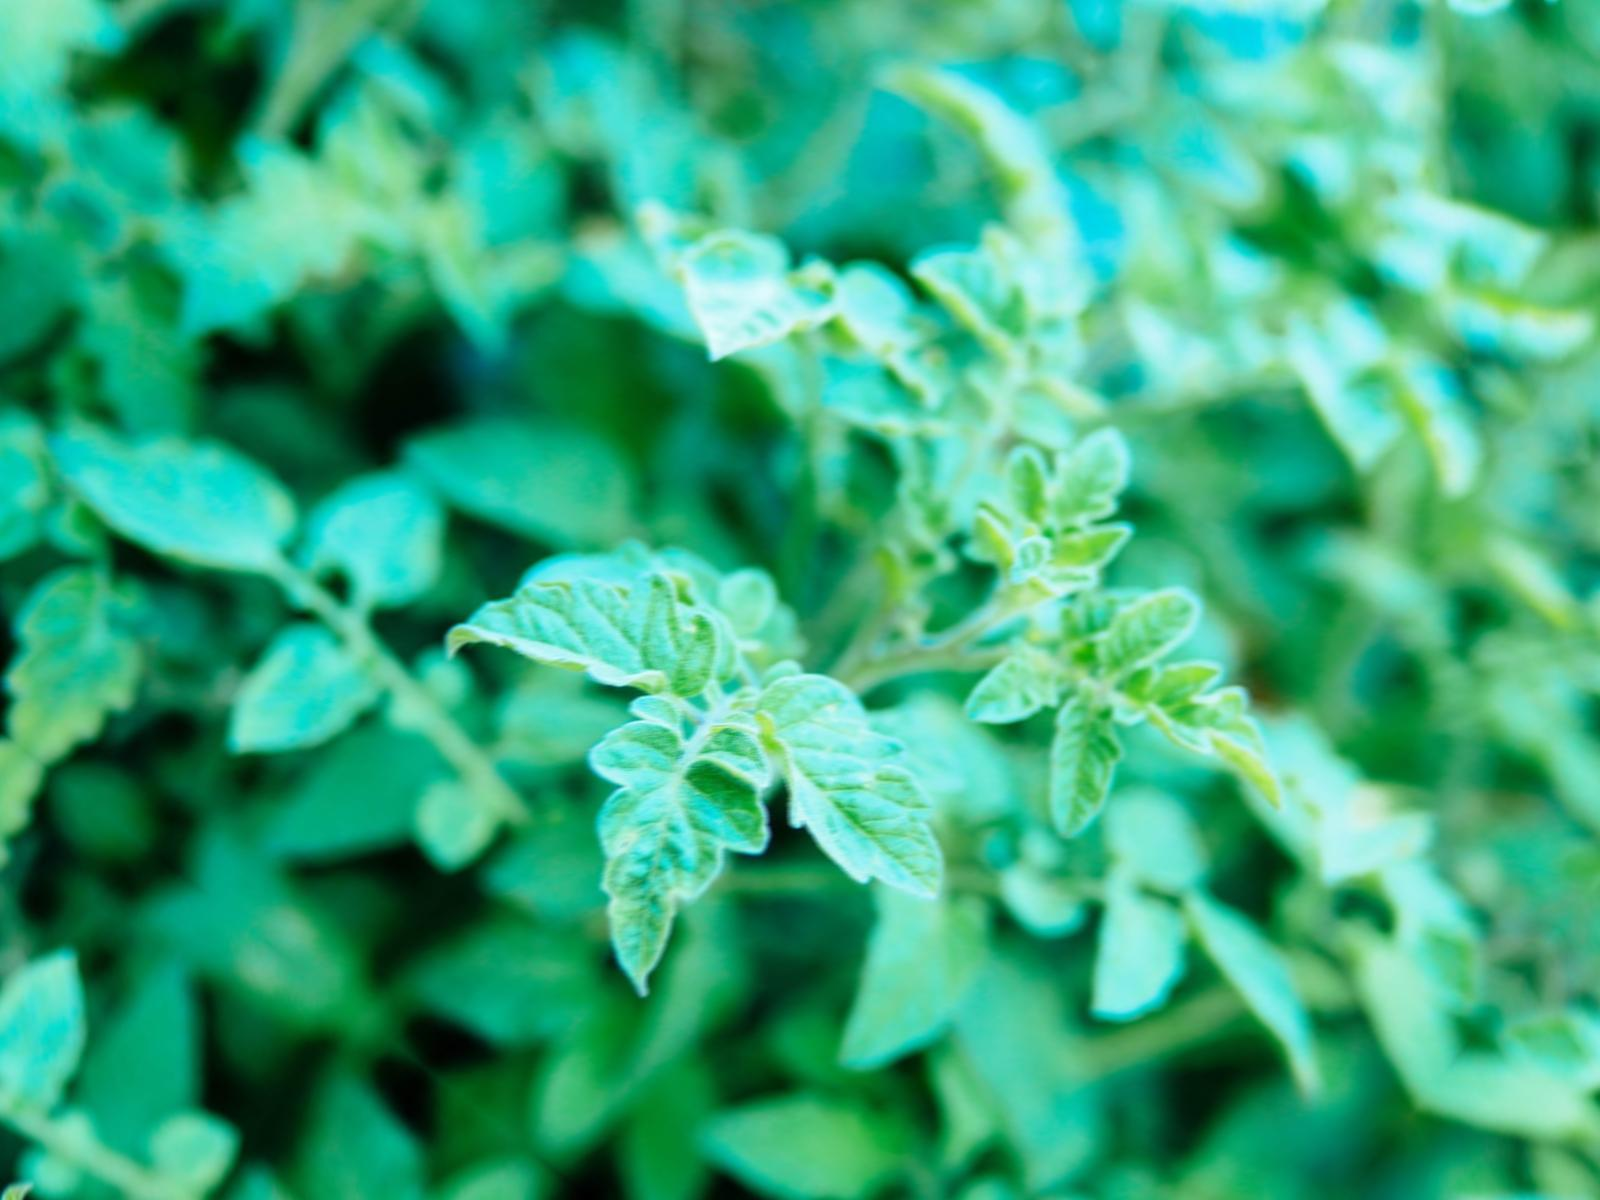Tomato leaf: (420, 447, 794, 812), (492, 656, 851, 1036), (682, 635, 1001, 936)
